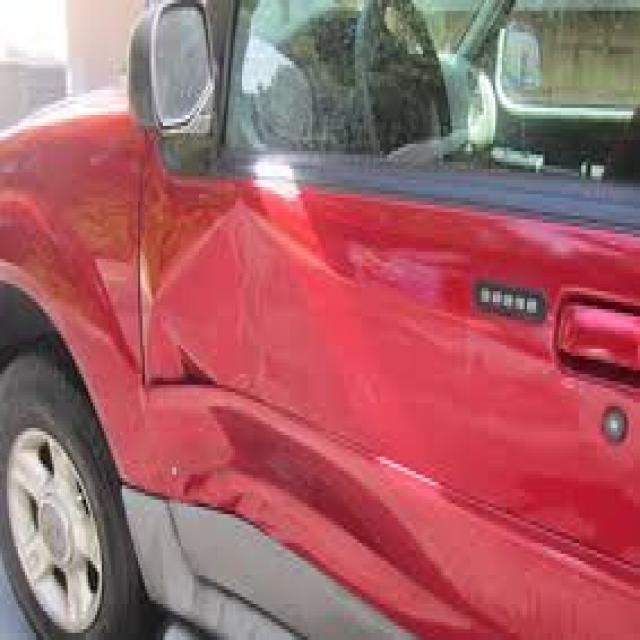minor: (122, 185, 506, 581)
